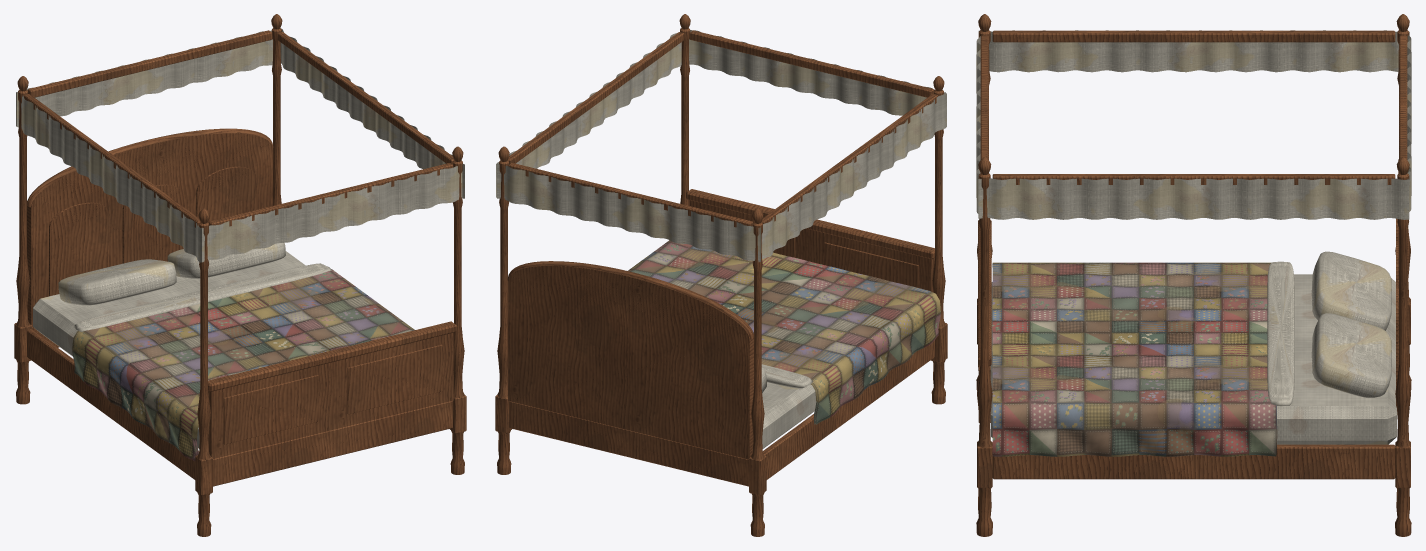
The model's file is bed_bed.obj.
3 renders of one model, left to right at view 1: azimuth 30°, elevation 25°; view 2: azimuth 150°, elevation 25°; view 3: azimuth 270°, elevation 25°, orthographic. The views are drawn at different scales.
Parts seen in each view (by area): view 1: bed_bed_wood_dark, bed_bed_linen, bed_bed_quilt; view 2: bed_bed_wood_dark, bed_bed_linen, bed_bed_quilt; view 3: bed_bed_quilt, bed_bed_linen, bed_bed_wood_dark.
Boxes of the visible parts, bbox=[...] form: bed_bed_wood_dark: bbox=[14, 14, 466, 536]; bed_bed_linen: bbox=[16, 29, 464, 448]; bed_bed_quilt: bbox=[72, 269, 414, 461]; bed_bed_wood_dark: bbox=[495, 14, 947, 536]; bed_bed_linen: bbox=[496, 30, 946, 448]; bed_bed_quilt: bbox=[628, 240, 940, 424]; bed_bed_quilt: bbox=[992, 262, 1277, 456]; bed_bed_linen: bbox=[976, 30, 1411, 444]; bed_bed_wood_dark: bbox=[976, 14, 1411, 536].
Bounding box in the file's own units: 1.8 × 2.1 × 2.2.
Materials: 3 (3 with a texture image).
